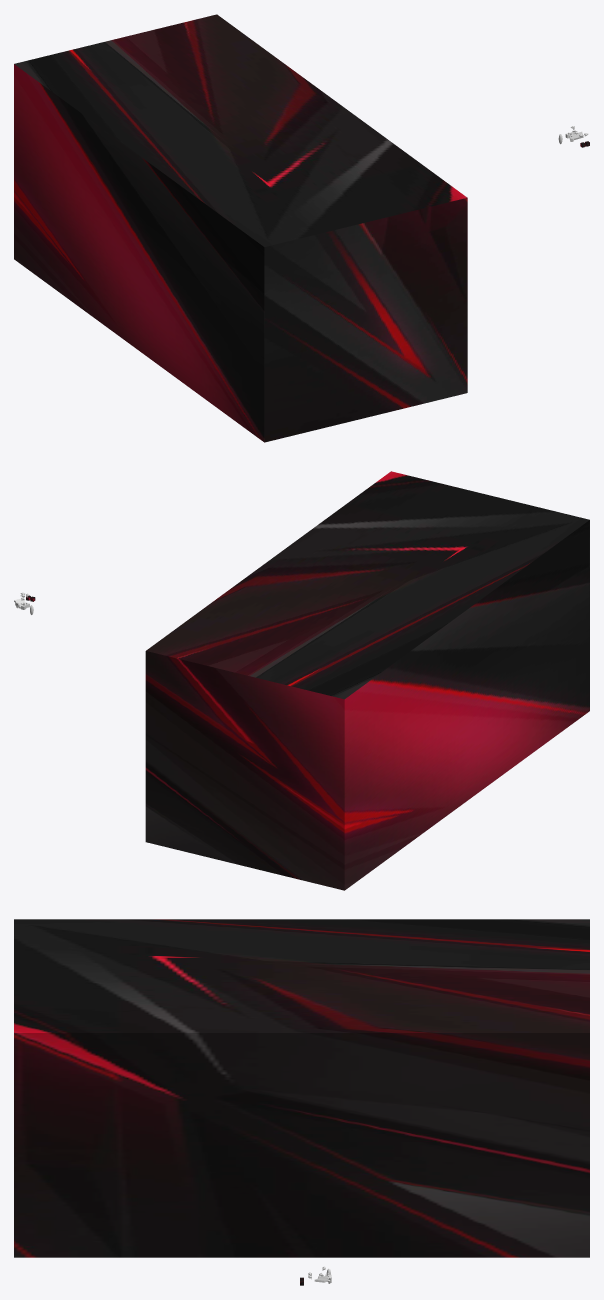
The model's file is test_blender.fbx.
3 renders of one model, top to bottom at view 1: azimuth 30°, elevation 25°; view 2: azimuth 150°, elevation 25°; view 3: azimuth 270°, elevation 25°, orthographic. The views are drawn at different scales.
Parts seen in each view (by area): view 1: Cube.003; view 2: Cube.003; view 3: Cube.003.
Boxes of the visible parts, left/top/right/bottom form: Cube.003: left=14, top=14, right=467, bottom=442; Cube.003: left=145, top=471, right=589, bottom=890; Cube.003: left=14, top=919, right=589, bottom=1257.
Size of the model in its own units: 27870 by 11482 by 26687.
4 materials, 3 textured.
